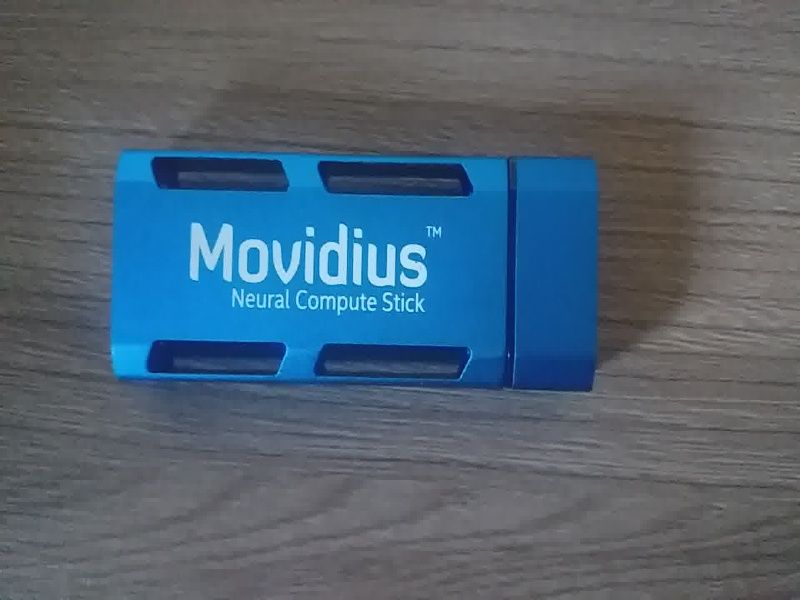movidius: (101, 140, 606, 399)
